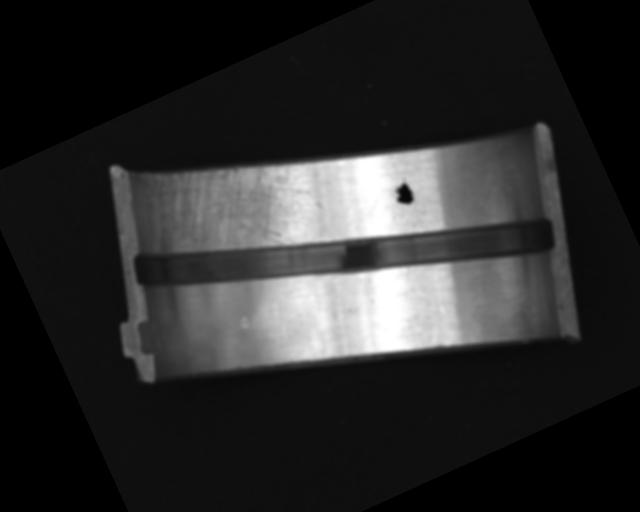blot: (386, 175, 418, 210)
bruise: (237, 313, 251, 330)
gap: (130, 93, 563, 409)
nick: (422, 264, 454, 314)
scratch: (140, 117, 332, 295)
